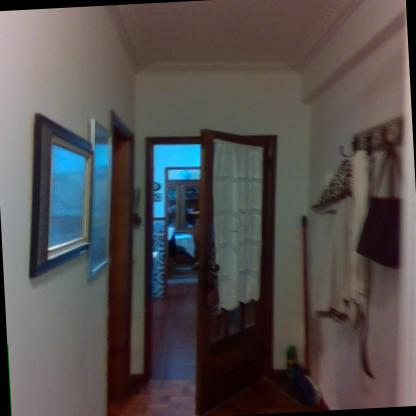semi: (126, 118, 301, 412)
